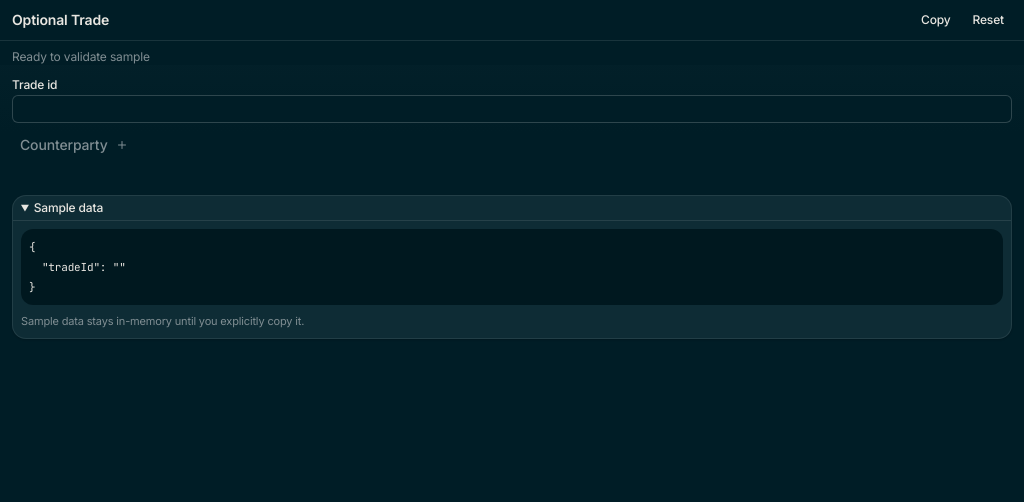
Test: FormPreviewPanel › lets optional object sections stay absent until explicitly added
Expected: the field labelled "Name" is not shown
Expected: the text with test id "sample-data-output" does not show "counterparty", [21,229,1003,305]
Click the button named "add counterparty" at (122, 145), box [114,137,130,153]
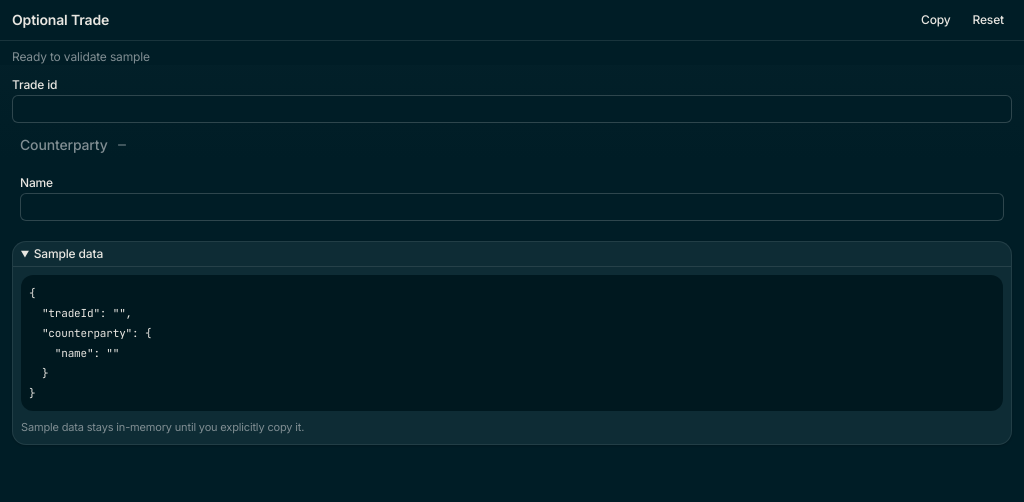
Now the field labelled "Name" is shown
Now the text with test id "sample-data-output" shows "\"counterparty\": {", box [29,286,151,400]
Leave the field labelled "Name", box [20,193,1004,221]
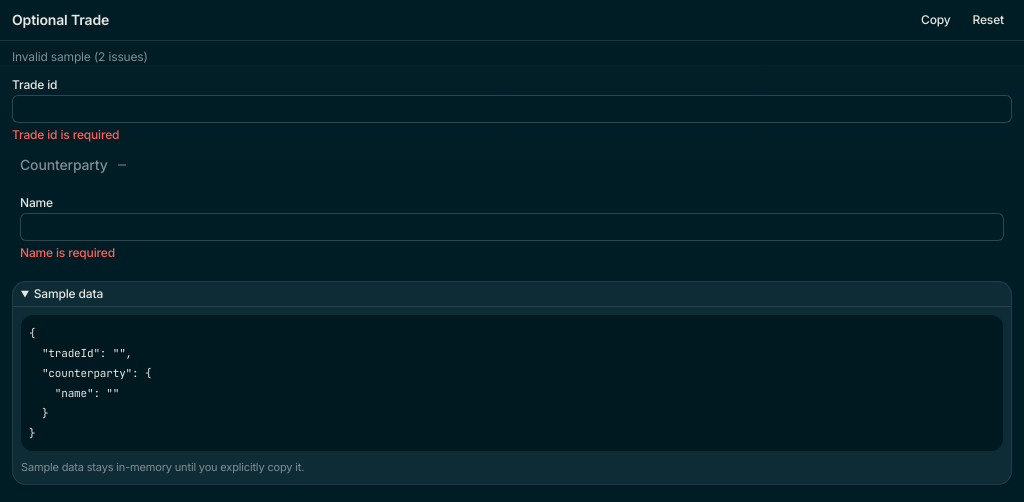
Now the text "Name is required" is shown, box [20,245,115,260]
Click the button named "remove counterparty" at (122, 165), box [114,157,130,173]
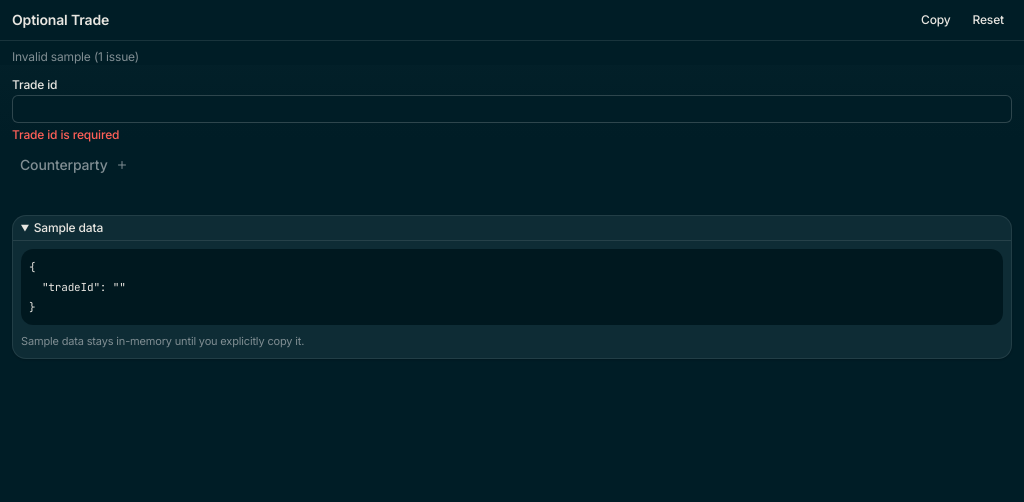
Expected: the text with test id "sample-data-output" does not show "counterparty", [21,249,1003,325]
Now the text labelled "Name" is gone
Now the text "Name is required" is gone
